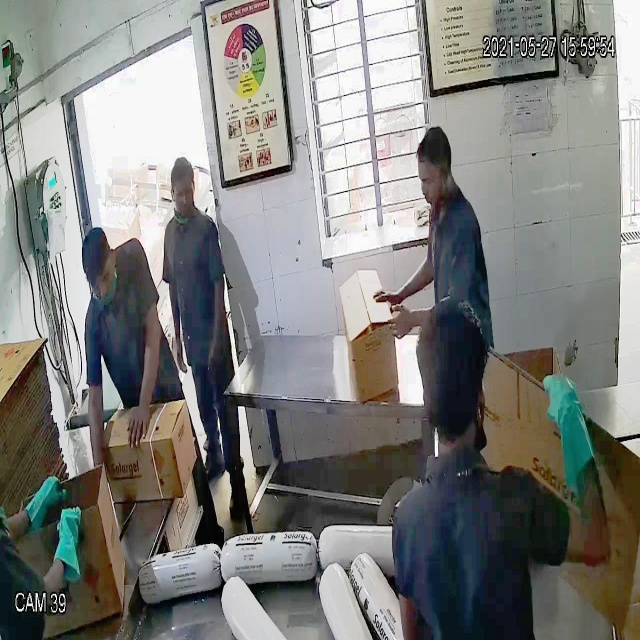Sin_gafas: (81, 262, 121, 298), (412, 164, 453, 193)
